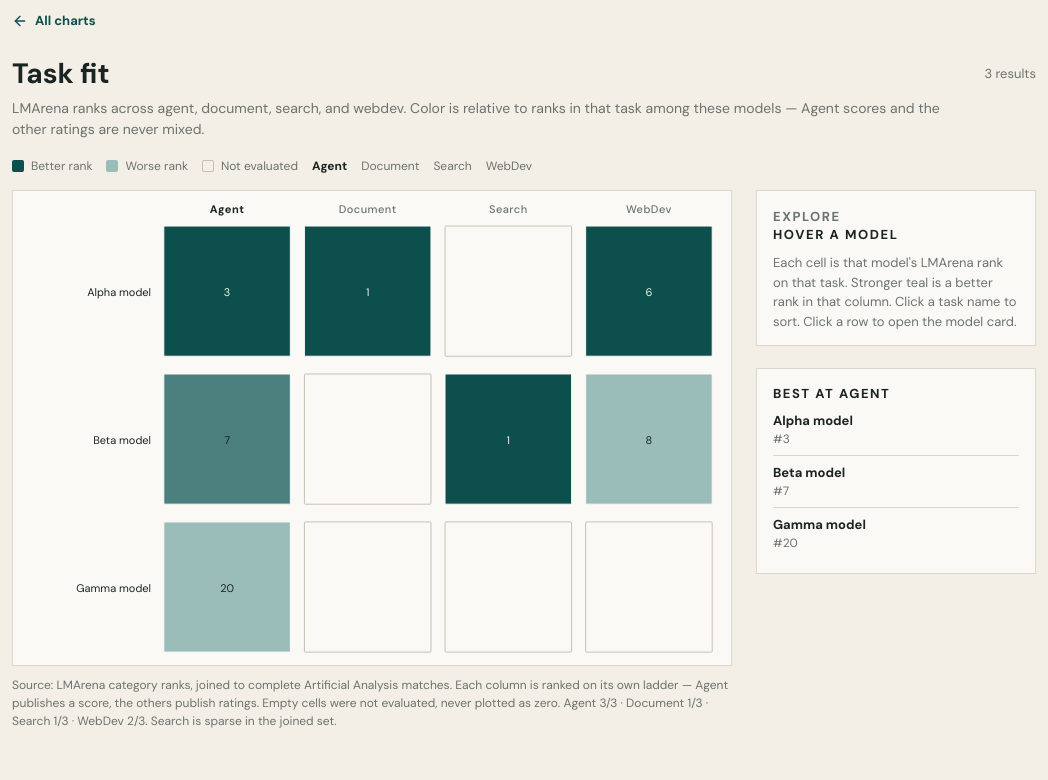
Test: TaskFitPage › lists best-at-task models and inspects missing categories on hover
Expected: the heading "Task fit" is shown, x1=12 y1=55 x2=110 y2=92
Expected: the heading "Best at Agent" is shown, x1=773 y1=385 x2=890 y2=402
Click the button "Search" at x=453, y=166, box x1=433 y1=158 x2=472 y2=174
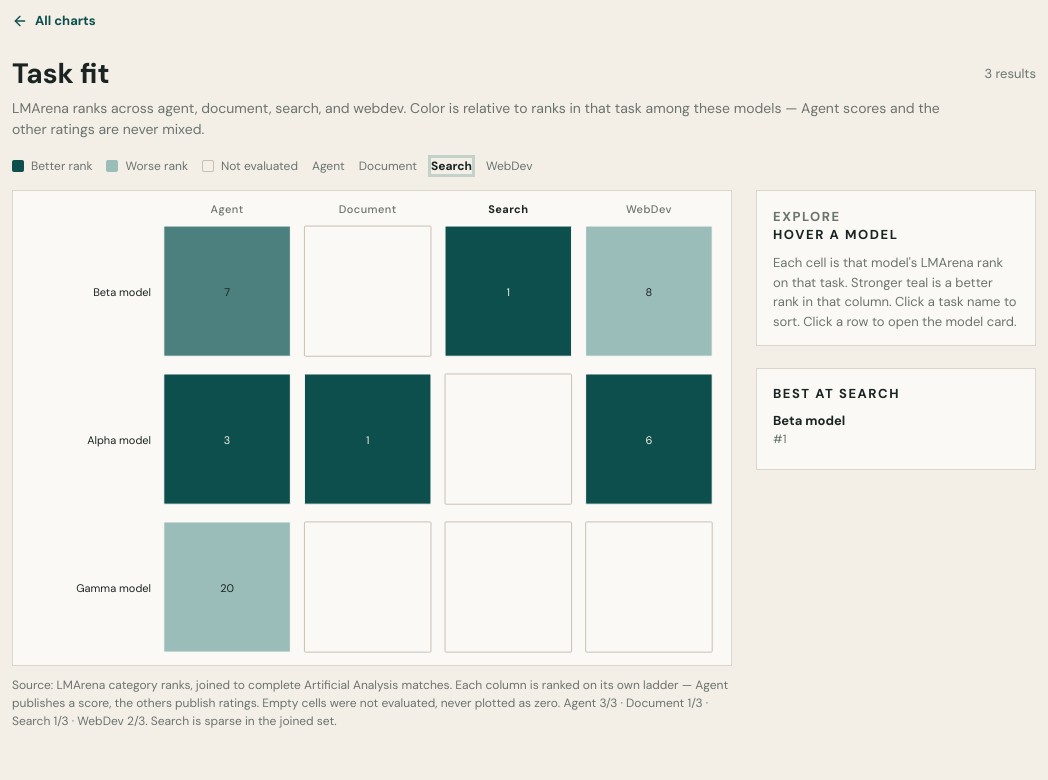
Now the heading "Best at Search" is shown, box x1=773 y1=385 x2=900 y2=402
Hover over the link "Beta model #1" at x=809, y=430, box x1=773 y1=412 x2=845 y2=447
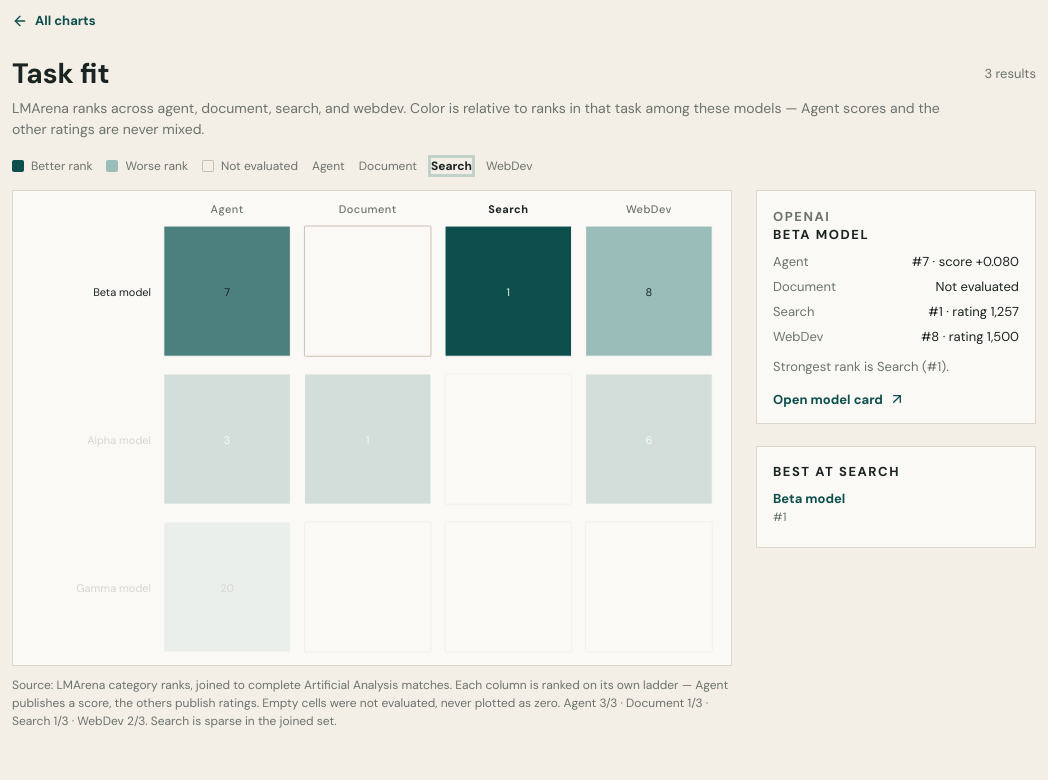
Now the heading "Beta model" is shown, box x1=773 y1=226 x2=869 y2=243
Now the text "#7 · score +0.080" is shown, box x1=912 y1=253 x2=1019 y2=270
Now the text "Strongest rank is Search (#1)." is shown, box x1=773 y1=358 x2=949 y2=375
